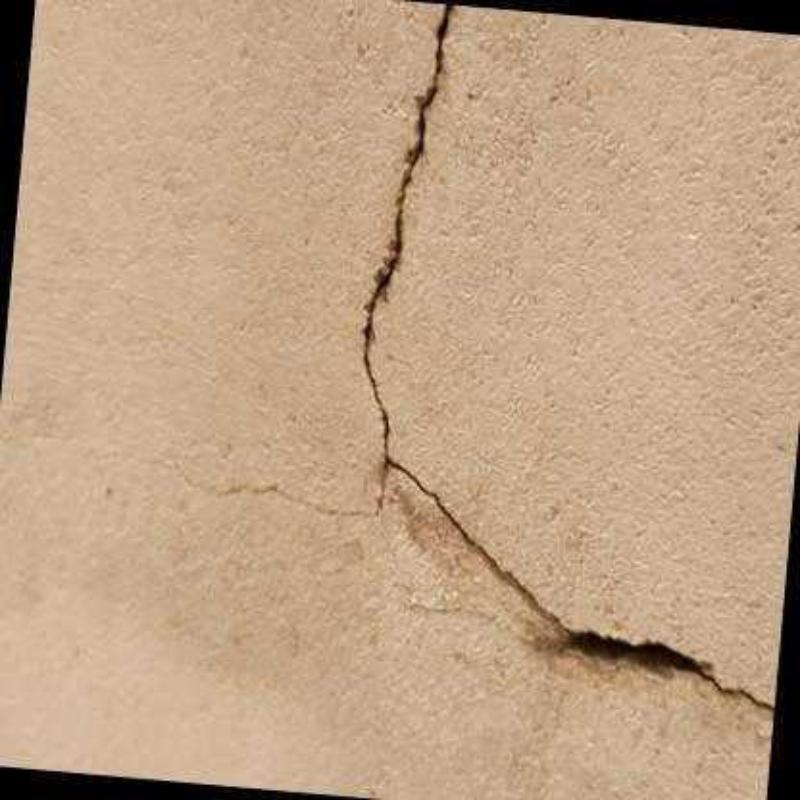pothole: (363, 5, 777, 715), (148, 460, 390, 517)
